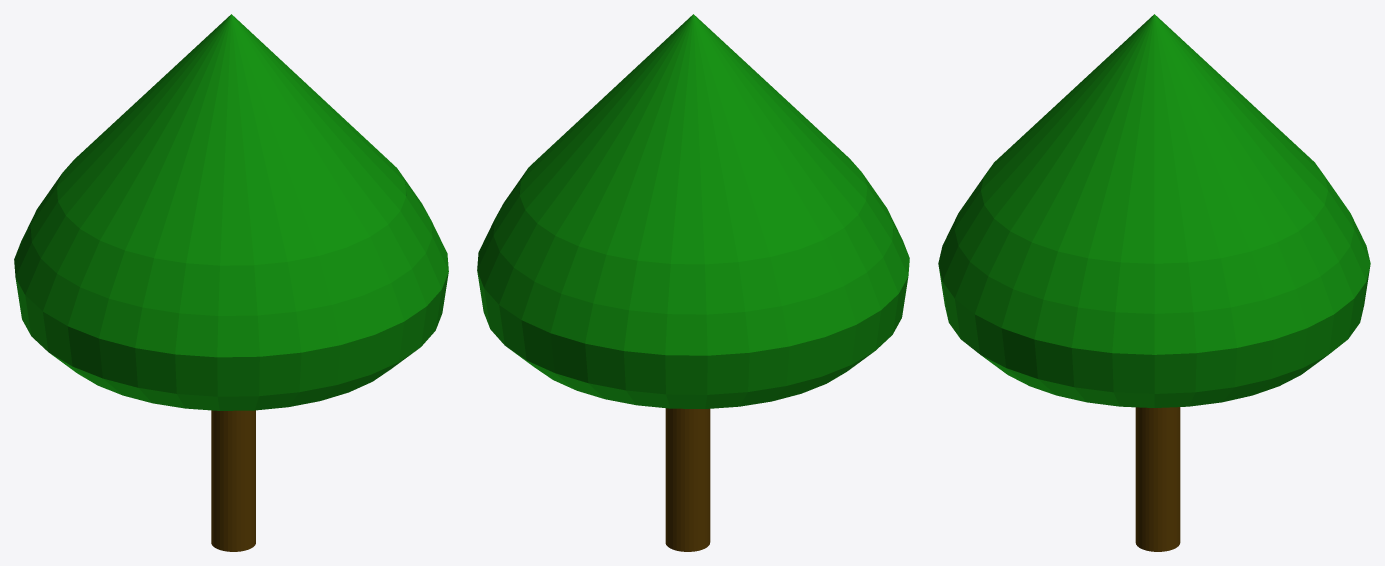
The model's file is treeGreen.obj.
The picture shows the model from 3 angles, left to right: view 1: azimuth 30°, elevation 25°; view 2: azimuth 150°, elevation 25°; view 3: azimuth 270°, elevation 25°; orthographic projection.
Visible parts, largest first — view 1: Cone; view 2: Cone; view 3: Cone.
Boxes of the visible parts, x1,y1,x2,y2 form: Cone: [14, 14, 448, 551]; Cone: [477, 14, 909, 551]; Cone: [938, 14, 1370, 551].
Bounding box in the file's own units: 2.49 × 3.35 × 2.49.
